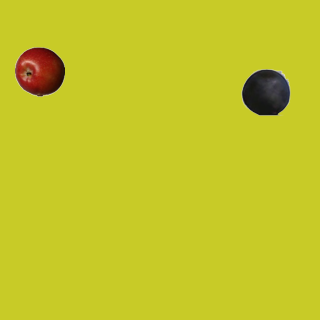Apple Braeburn: (14, 46, 64, 96)
Grape Blue: (240, 66, 290, 116)
